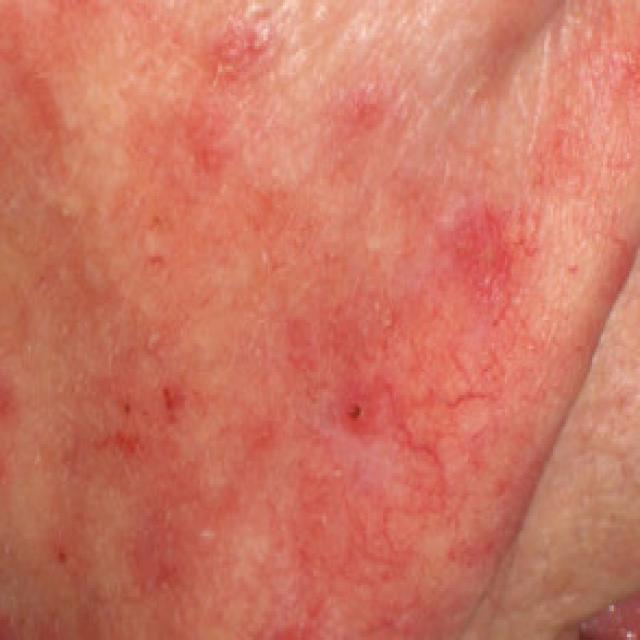Rosacea: (40, 25, 543, 640)
